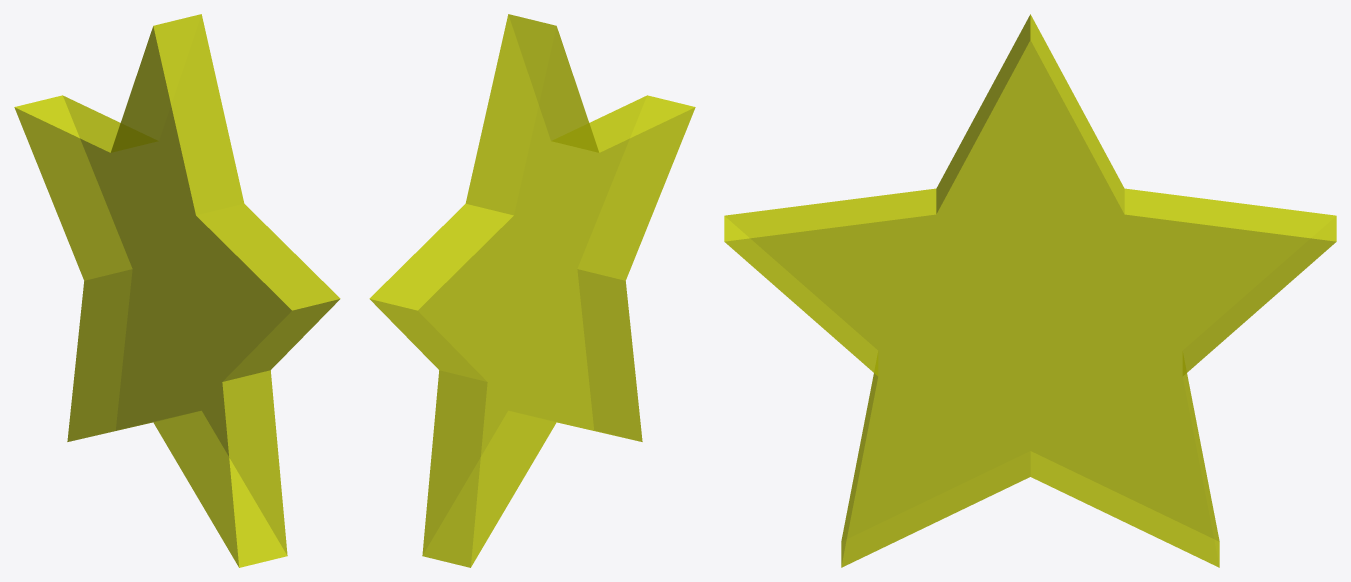
The model's file is star.fbx.
3 renders of one model, left to right at view 1: azimuth 30°, elevation 25°; view 2: azimuth 150°, elevation 25°; view 3: azimuth 270°, elevation 25°, orthographic. The views are drawn at different scales.
Parts seen in each view (by area): view 1: star; view 2: star; view 3: star.
Part boxes in pixels (box(x1,y1,x2,y2)): star: box(14, 14, 340, 567); star: box(369, 14, 695, 567); star: box(724, 14, 1336, 567).
Bounding box in the file's own units: 13.19 × 125 × 131.
